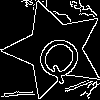Q: (30, 24, 93, 87)
